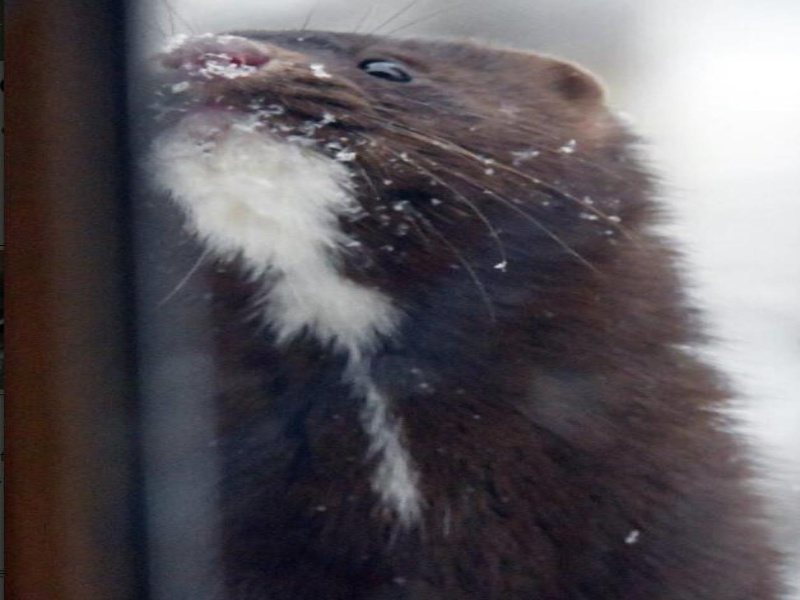minkish: (141, 23, 788, 600)
